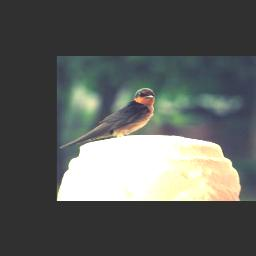Swallow: (59, 86, 156, 150)
